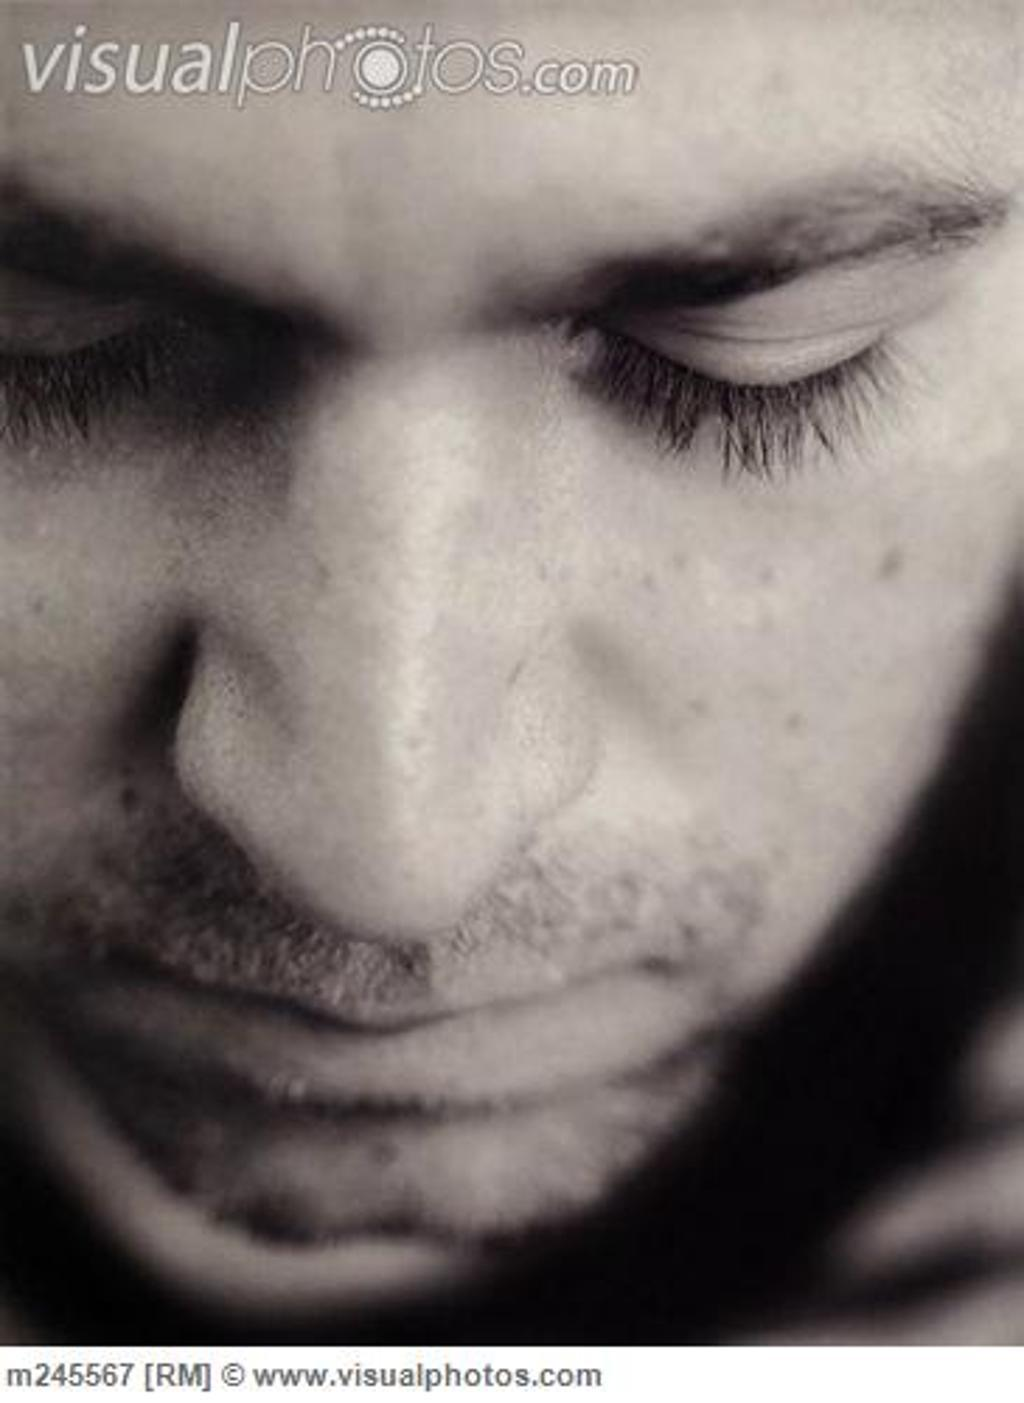face: (6, 15, 1014, 1239)
